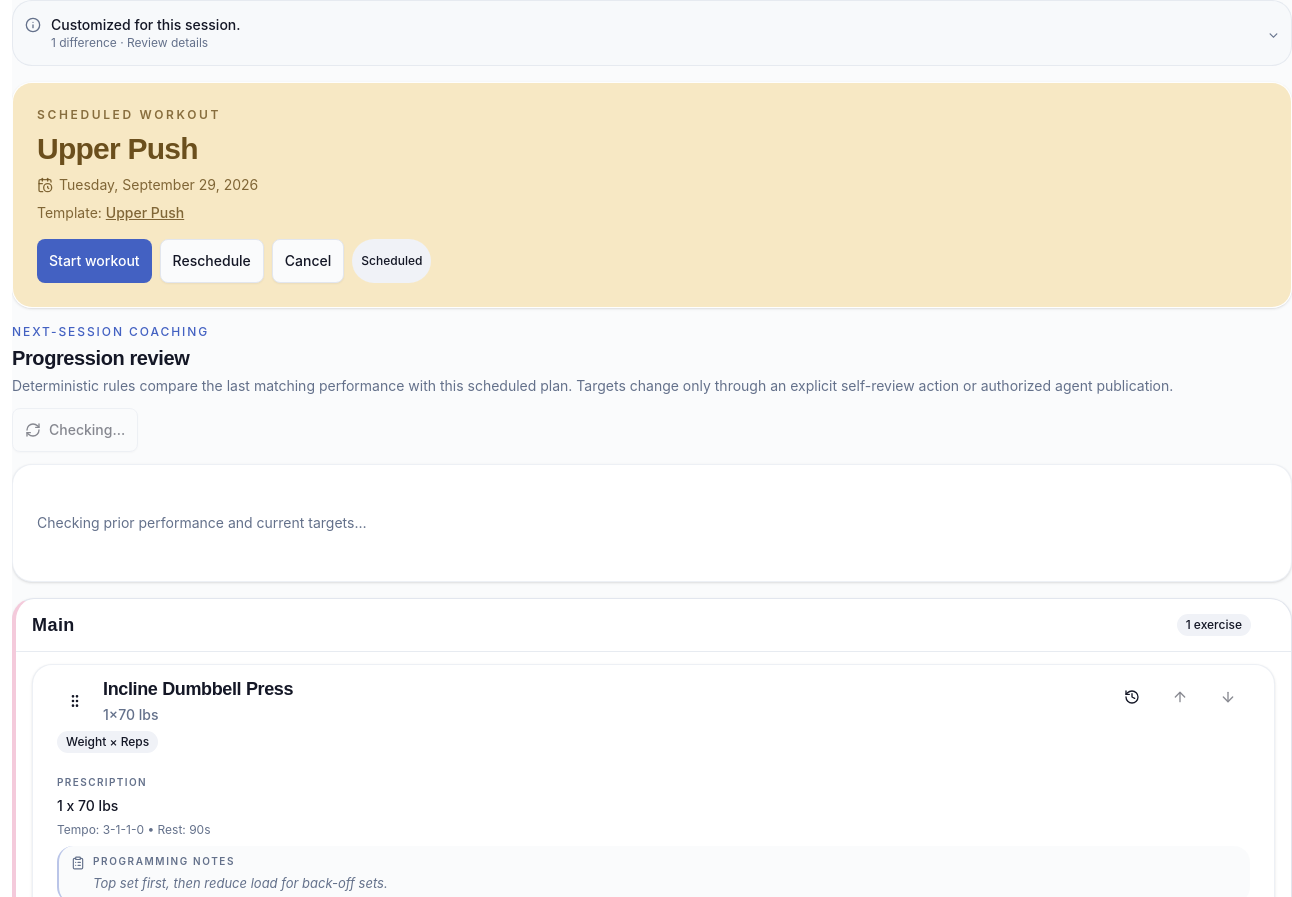
Test case: ScheduledWorkoutDetail › keeps customization collapsed until the user expands concrete differences
The image size is (1292, 897).
Check: the button "Start workout" is enabled, box x1=37 y1=239 x2=152 y2=283
Step 1. Click the heading "Customized for this session." → (146, 24), box x1=25 y1=11 x2=1279 y2=55
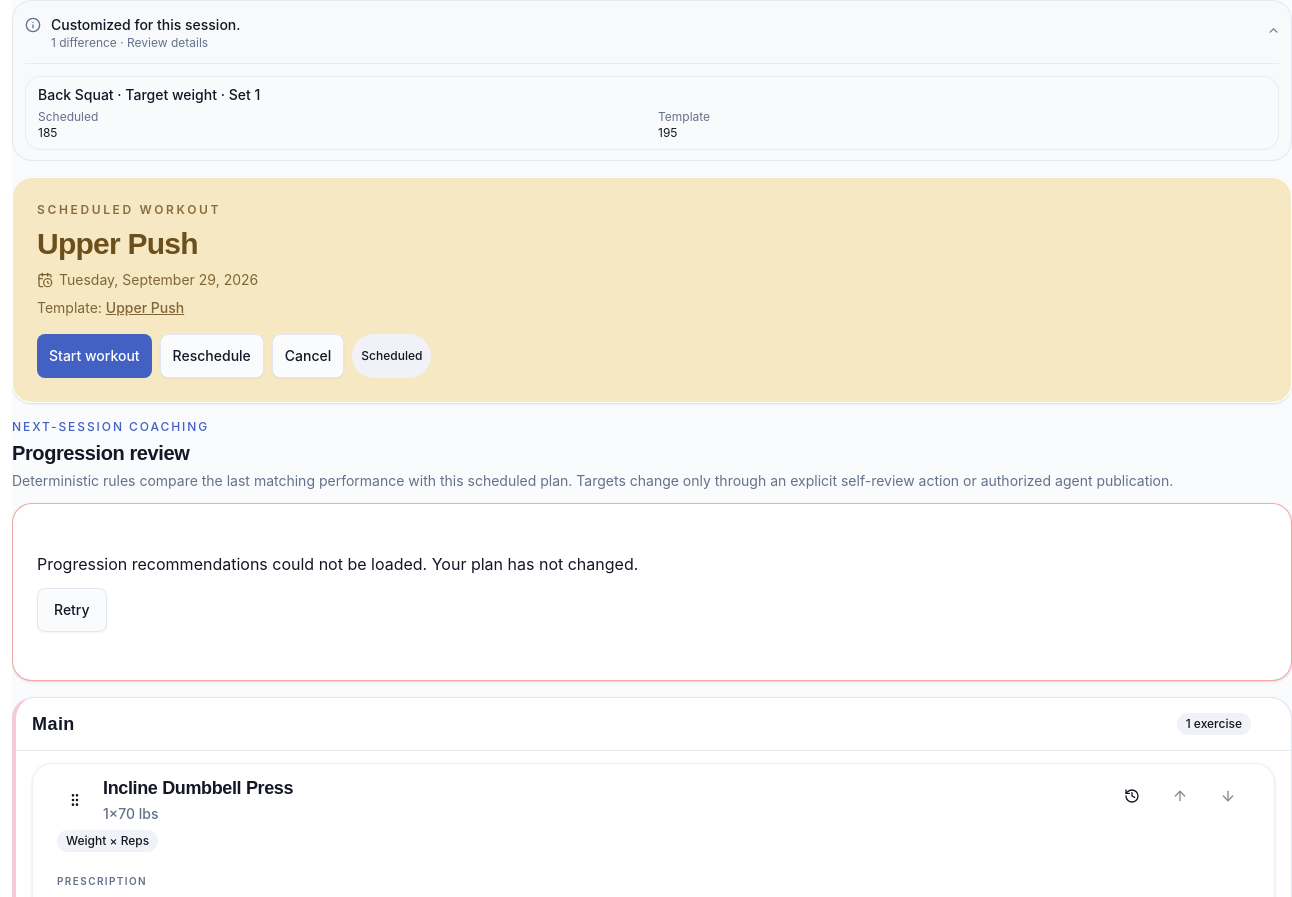
Check: the text "Back Squat · Target weight · Set 1" is shown, box x1=38 y1=85 x2=260 y2=105
Check: the text "185" is shown, box x1=38 y1=125 x2=57 y2=140
Check: the text "195" is shown, box x1=658 y1=125 x2=678 y2=140
